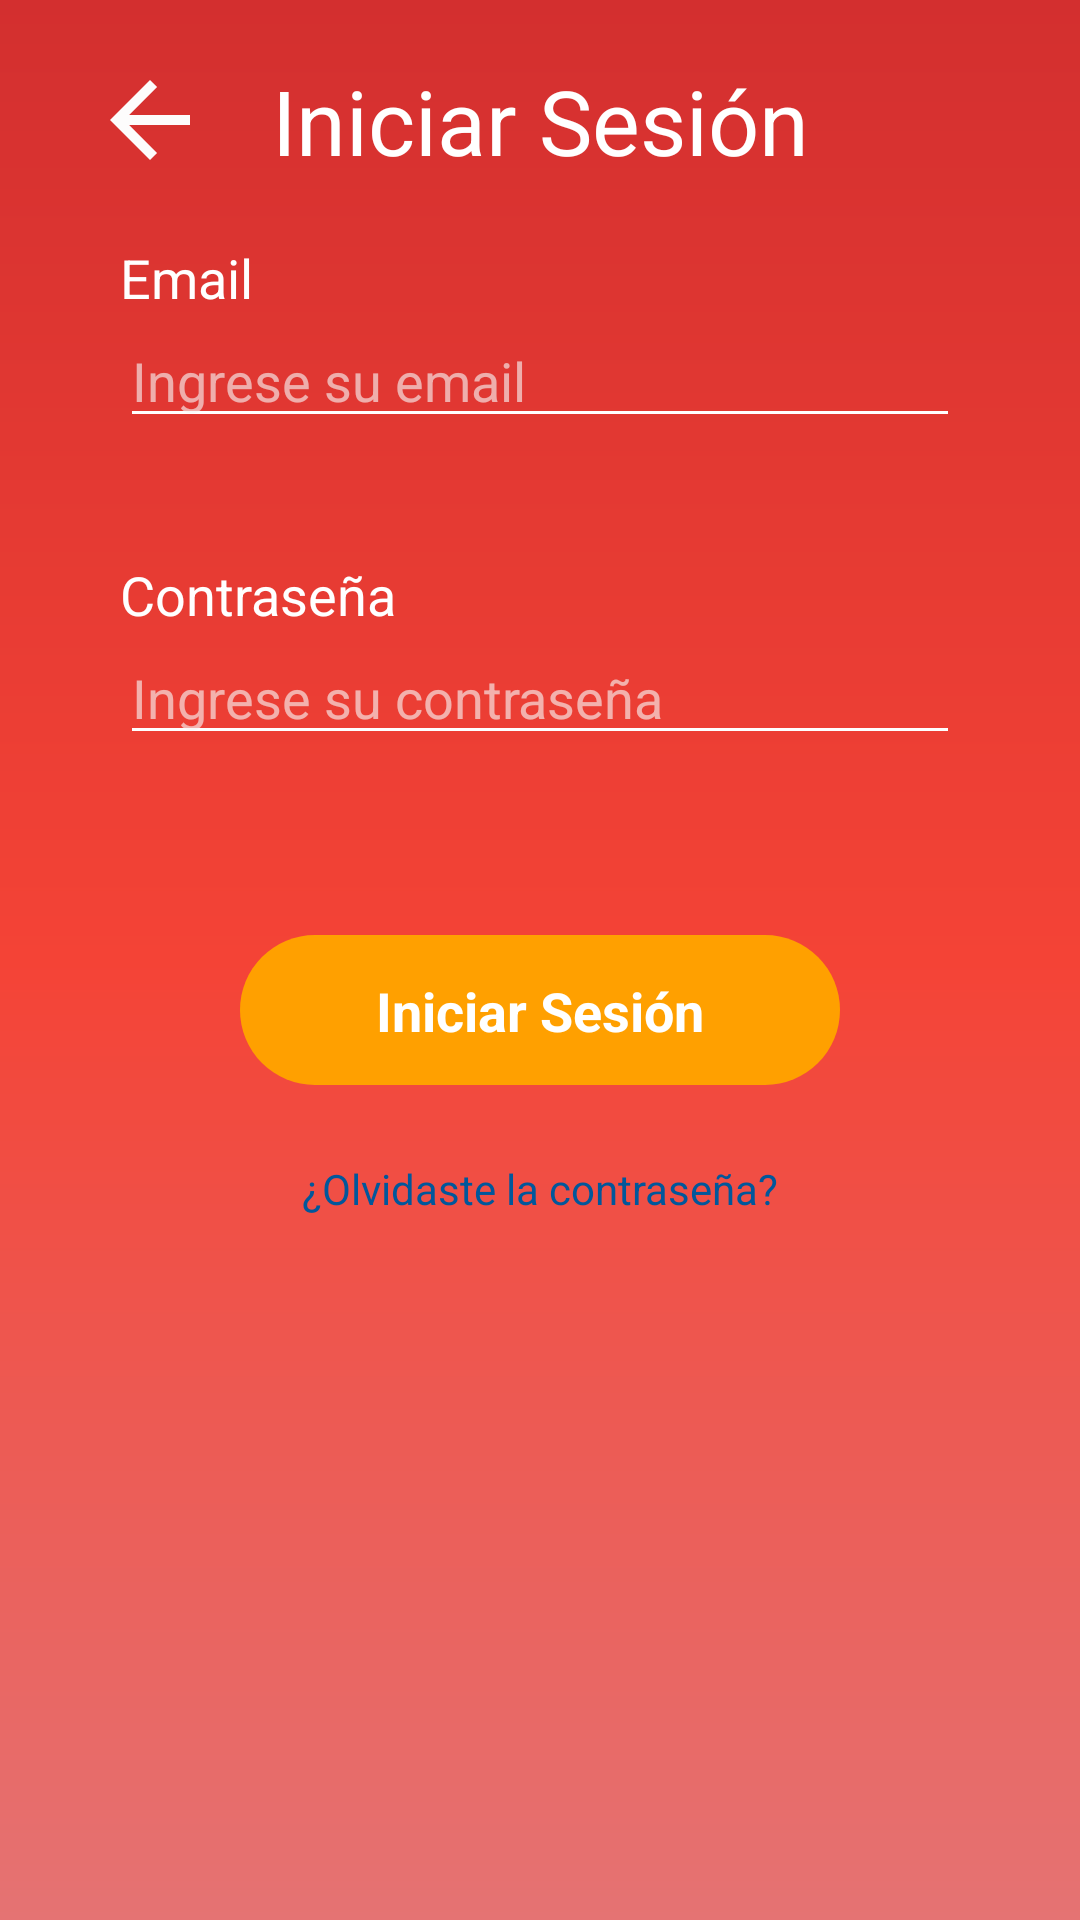

Named icons in this screenshot (1080*1920) and their centers, [x,y]:
back: [150,120]
